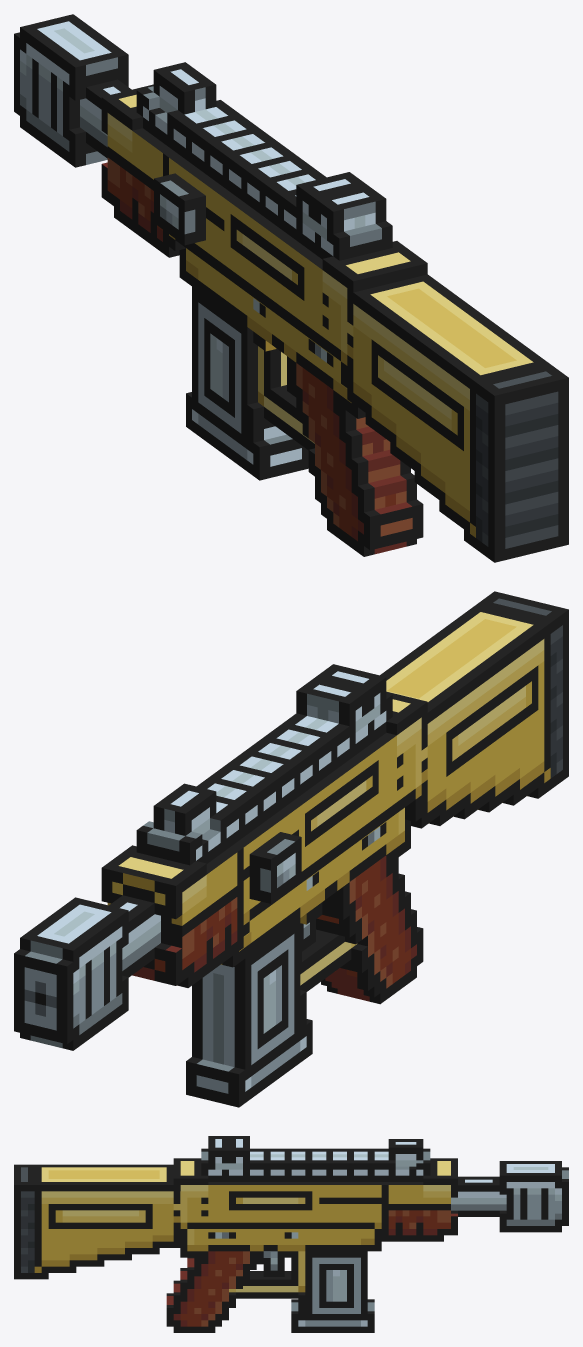
File: Rifle_v3.glb
The picture shows the model from 3 angles, top to bottom: view 1: azimuth 30°, elevation 25°; view 2: azimuth 150°, elevation 25°; view 3: azimuth 270°, elevation 25°; orthographic projection. The views are drawn at different scales.
Visible parts, largest first — view 1: Body, Magazine, Slide; view 2: Body, Magazine, Slide; view 3: Body, Magazine.
Boxes of the visible parts, bbox=[...] form: Body: bbox=[14, 14, 568, 562]; Magazine: bbox=[186, 287, 308, 480]; Slide: bbox=[154, 173, 205, 245]; Body: bbox=[14, 591, 568, 1050]; Magazine: bbox=[186, 918, 312, 1107]; Slide: bbox=[249, 832, 301, 903]; Body: bbox=[14, 1136, 568, 1332]; Magazine: bbox=[291, 1251, 374, 1332].
Size of the model in its own units: 0.478 by 1.54 by 4.25.
Materials: 1 (1 with a texture image).
